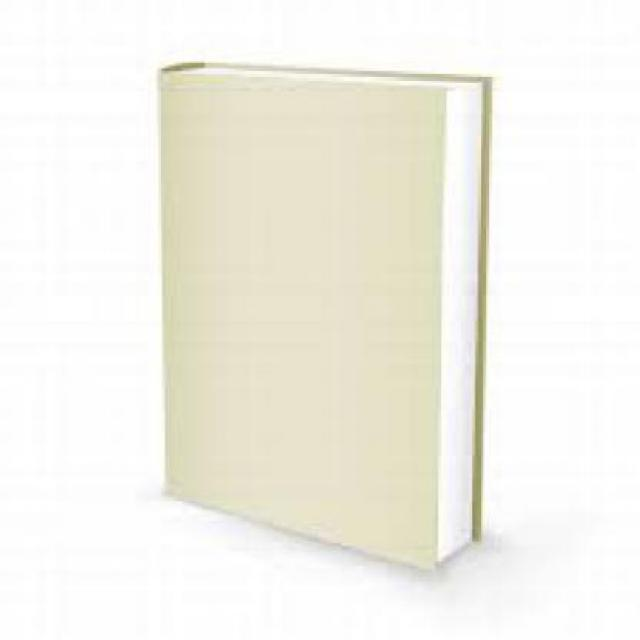book: (98, 35, 524, 600)
